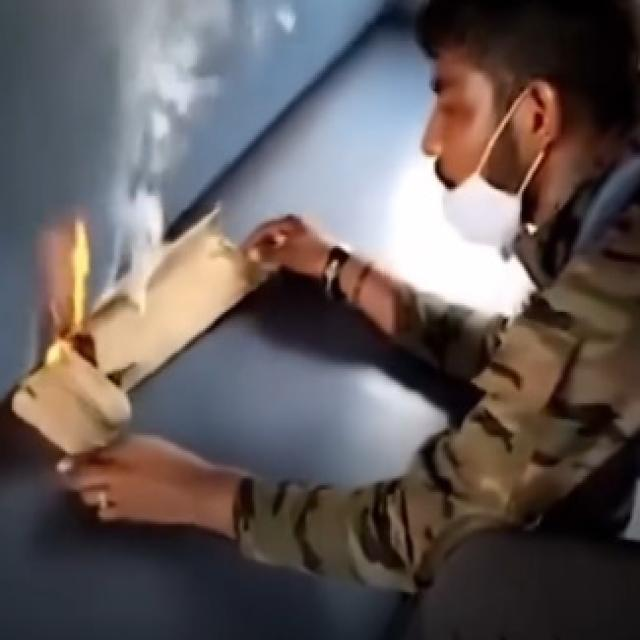fire: (45, 217, 92, 367)
